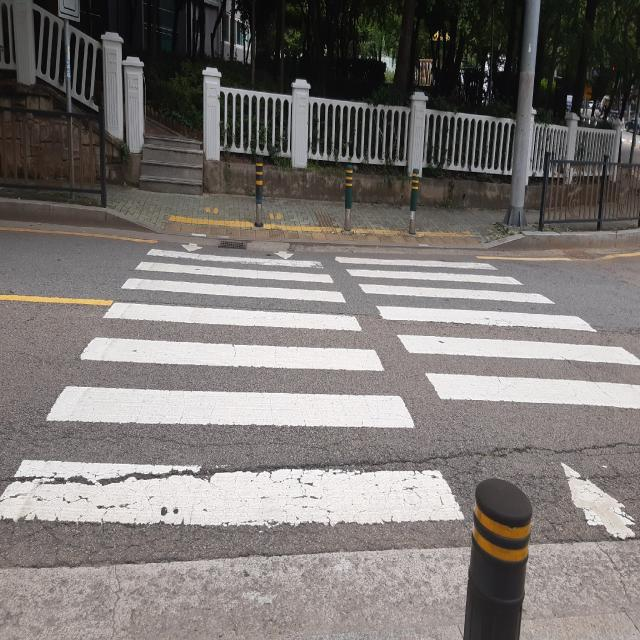횡단보도: (0, 241, 640, 544)
